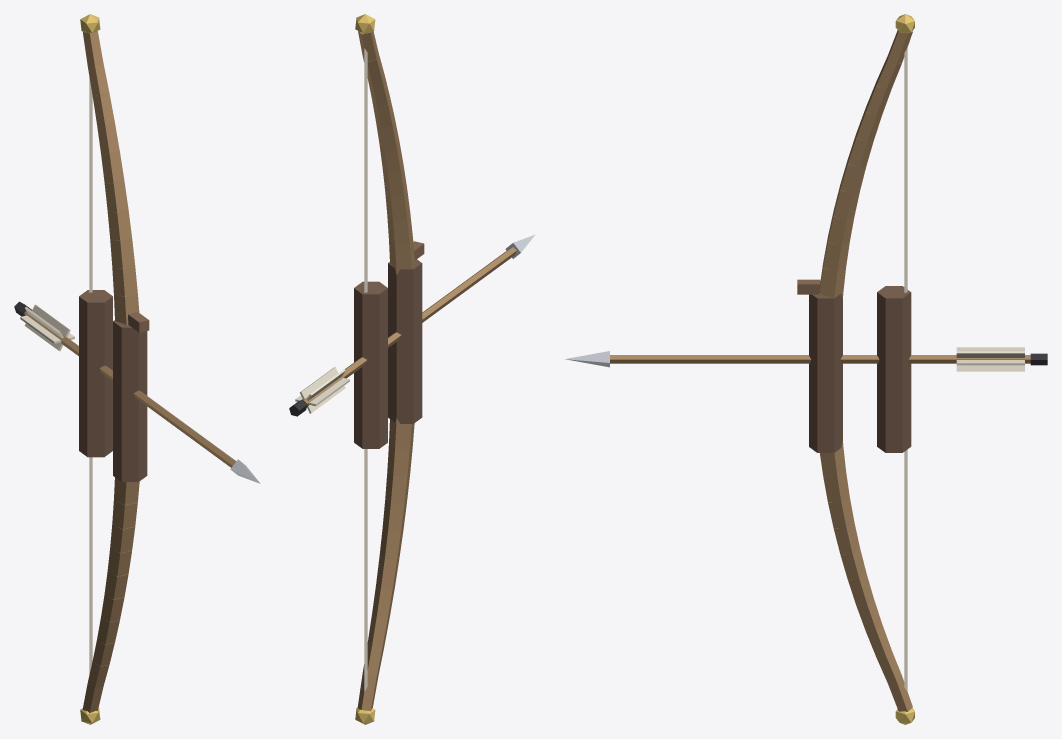
The model's file is Weapon_Bow.glb.
3 views of the same model, side by side, from view 1: azimuth 30°, elevation 25°; view 2: azimuth 150°, elevation 25°; view 3: azimuth 270°, elevation 25° (orthographic).
Parts seen in each view (by area): view 1: Bow; view 2: Bow; view 3: Bow.
Boxes of the visible parts, box(x1,y1,x2,y2) form: Bow: box(14, 14, 260, 724); Bow: box(289, 14, 535, 724); Bow: box(565, 14, 1047, 724).
Size of the model in its own units: 0.052 by 1.38 by 0.85.
